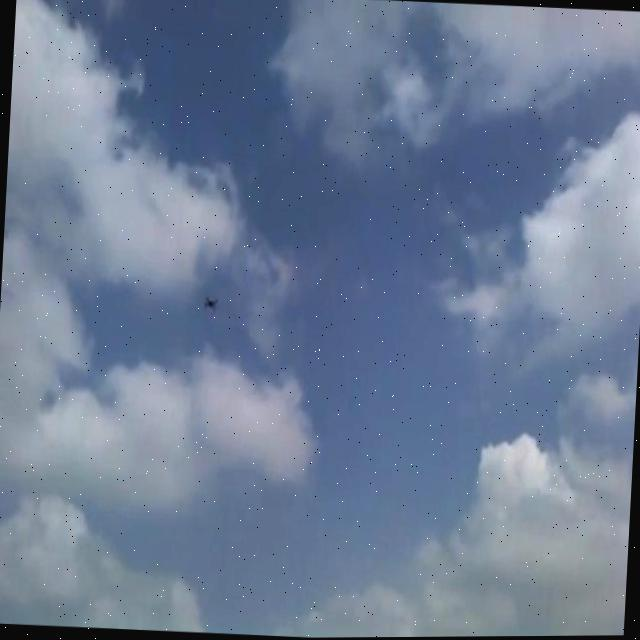drone: (200, 290, 222, 313)
